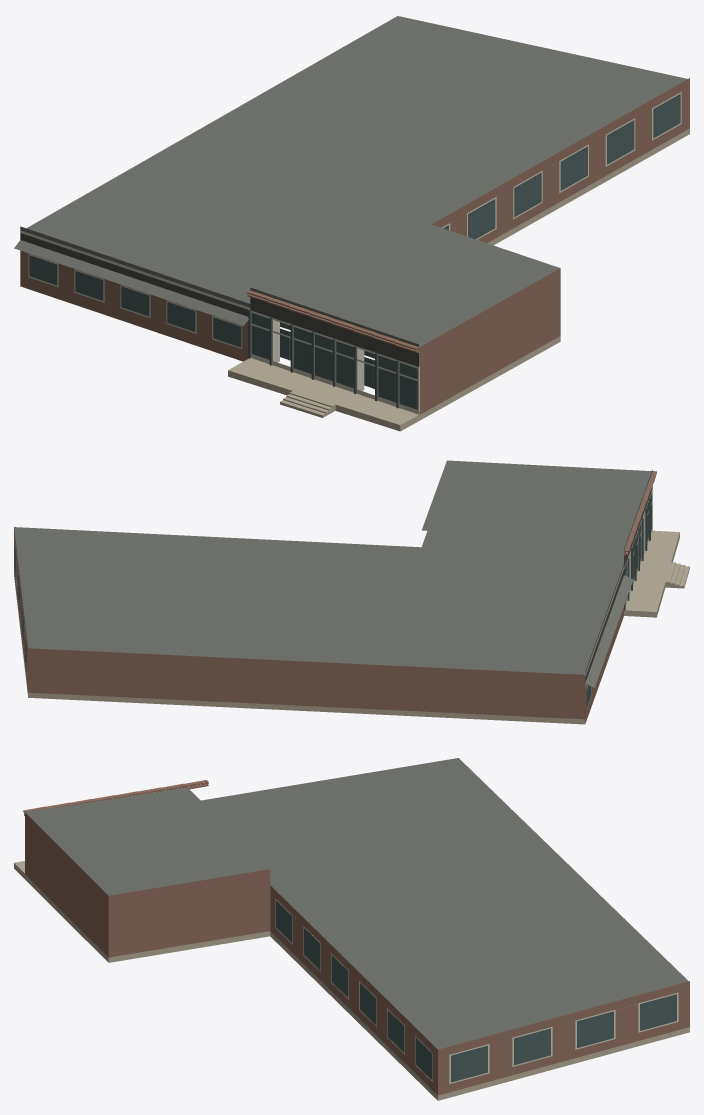
File: braselton-brothers-store-far.glb
3 views of the same model, one above another, from view 1: azimuth 30°, elevation 25°; view 2: azimuth 150°, elevation 25°; view 3: azimuth 270°, elevation 25° (orthographic). The views are drawn at different scales.
Visible parts, largest first — view 1: braselton-brothers-store-0-roof, braselton-brothers-store-0-brick, braselton-brothers-store-0-glass, braselton-brothers-store-0-stone, braselton-brothers-store-0-trim, braselton-brothers-store-0-dark, braselton-brothers-store-0-metal; view 2: braselton-brothers-store-0-roof, braselton-brothers-store-0-brick, braselton-brothers-store-0-stone, braselton-brothers-store-0-glass, braselton-brothers-store-0-trim, braselton-brothers-store-0-metal, braselton-brothers-store-0-dark; view 3: braselton-brothers-store-0-roof, braselton-brothers-store-0-brick, braselton-brothers-store-0-glass, braselton-brothers-store-0-stone, braselton-brothers-store-0-trim.
Boxes of the visible parts, x1,y1,x2,y2 form: braselton-brothers-store-0-roof: (14, 16, 687, 365); braselton-brothers-store-0-brick: (20, 78, 689, 414); braselton-brothers-store-0-glass: (29, 94, 680, 409); braselton-brothers-store-0-stone: (228, 128, 689, 431); braselton-brothers-store-0-trim: (20, 92, 681, 414); braselton-brothers-store-0-dark: (20, 233, 418, 366); braselton-brothers-store-0-metal: (248, 310, 398, 408); braselton-brothers-store-0-roof: (14, 460, 652, 687); braselton-brothers-store-0-brick: (14, 471, 656, 723); braselton-brothers-store-0-stone: (14, 530, 689, 724); braselton-brothers-store-0-glass: (14, 492, 652, 707); braselton-brothers-store-0-trim: (14, 489, 652, 709); braselton-brothers-store-0-metal: (624, 498, 650, 610); braselton-brothers-store-0-dark: (585, 486, 652, 684); braselton-brothers-store-0-roof: (25, 758, 688, 1049); braselton-brothers-store-0-brick: (23, 780, 689, 1095); braselton-brothers-store-0-glass: (276, 900, 676, 1082); braselton-brothers-store-0-stone: (14, 861, 689, 1100); braselton-brothers-store-0-trim: (275, 899, 678, 1083).
Bounding box in the file's own units: 72 × 7.9 × 69.29.
